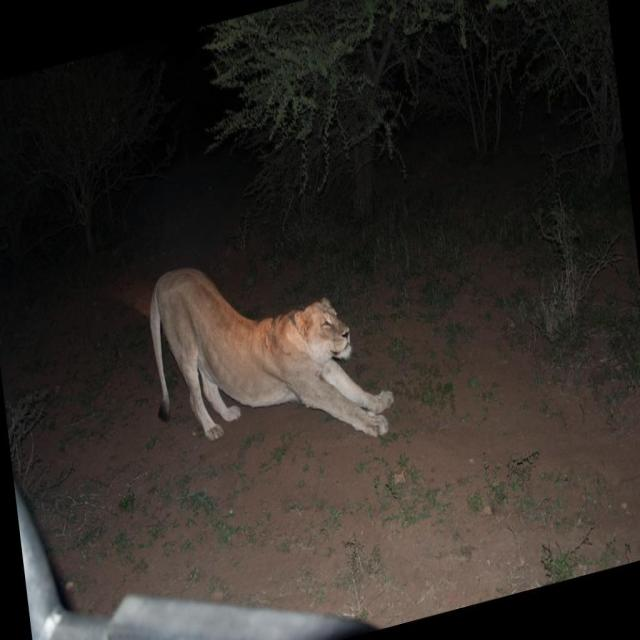Lion: (142, 216, 399, 495)
